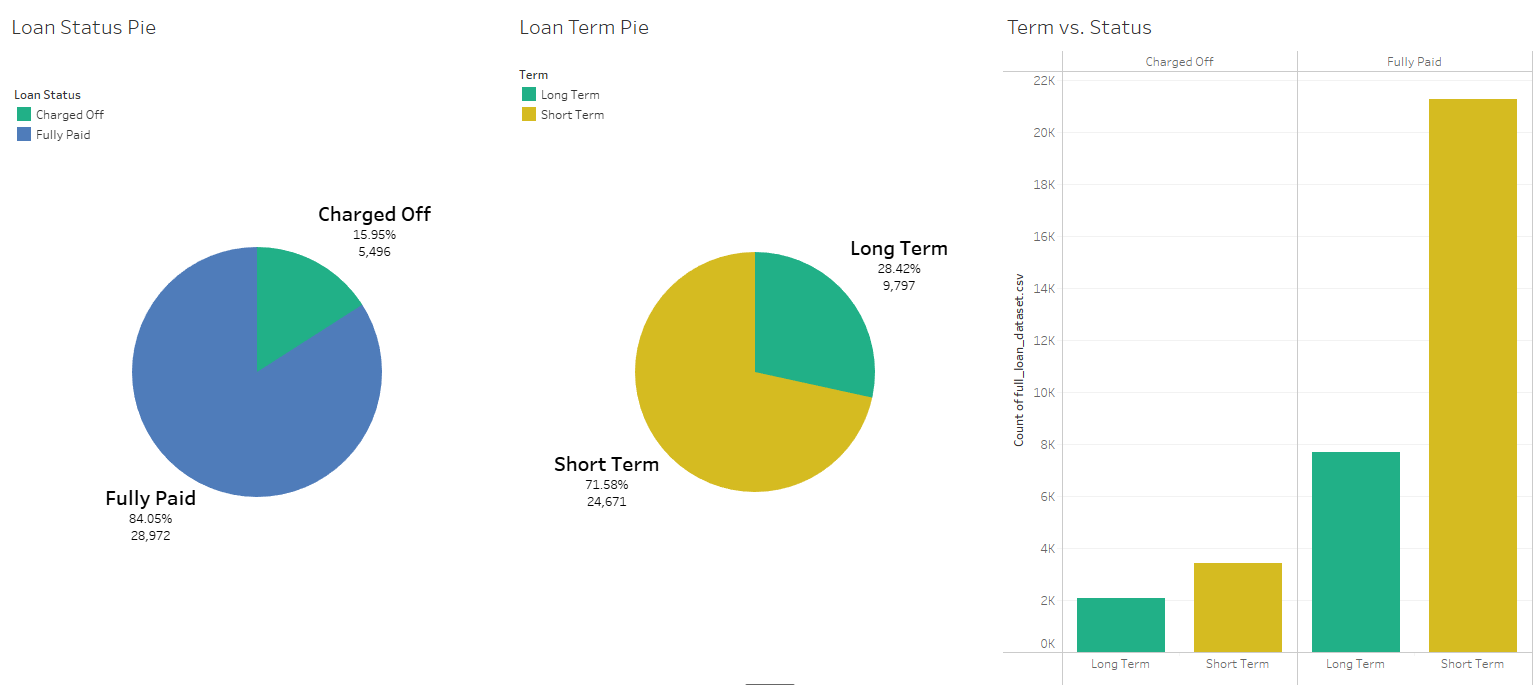

This screenshot's page, from the dashboard's own definition file:
{"tool":"tableau","page":{"name":"Overall Summary","canvas":[1000,1000],"units":"permille","ordinal":1},"visuals":[{"type":"worksheet","title":"Loan Status Pie","mark":"Pie","box":[5.2,9.8,327.7,847]},{"type":"worksheet","title":"Loan Term Pie","mark":"Pie","box":[332.9,9.8,314.9,847]},{"type":"worksheet","title":"Term vs. Status","mark":"Automatic","rows":["full_loan_dataset.csv_486CE361AA0346148A894F66E8D4613C"],"cols":["Term"],"box":[647.7,9.8,347.1,847]},{"type":"legend","title":"Loan Term Pie","param":"[federated.0kkffdl1jcn5gq1ajgz3z0ry43xx].[none:Term:nk]","box":[338.1,85.9,90.3,74.4]},{"type":"legend","title":"Loan Status Pie","param":"[federated.0kkffdl1jcn5gq1ajgz3z0ry43xx].[Loan Status1 (group)]","box":[12.3,110.3,90.3,74.4]},{"type":"text","box":[5.2,856.8,989.7,133.5]}]}

Visuals, with their boxes on the dashboard's canvas, which has no fixed pixel size, in thousandths of its width and height (x1, y1, x2, y2). These are canvas units, not pixel positions in the 1535x685 screenshot, which may show the page scaled, cropped or inside an application window:
"Loan Status Pie" worksheet (Pie marks): <region>5, 10, 333, 857</region>
"Loan Term Pie" worksheet (Pie marks): <region>333, 10, 648, 857</region>
"Term vs. Status" worksheet: <region>648, 10, 995, 857</region>
"Loan Term Pie" legend: <region>338, 86, 428, 160</region>
"Loan Status Pie" legend: <region>12, 110, 103, 185</region>
text: <region>5, 857, 995, 990</region>
